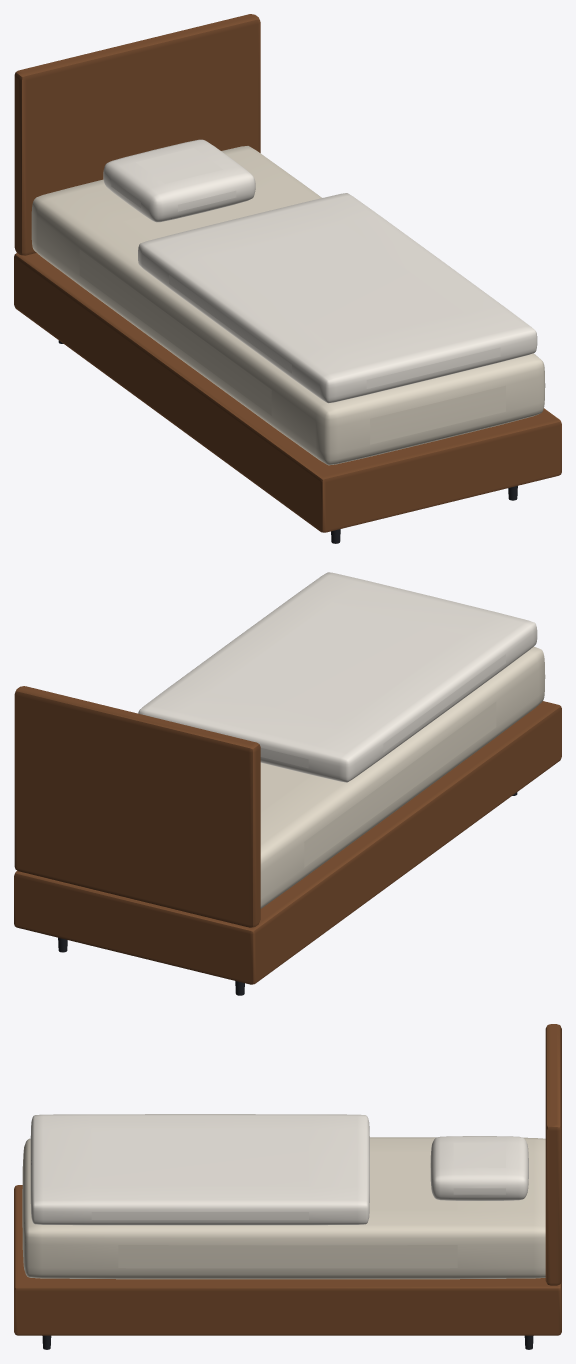
Rendered from bed-90.glb.
The picture shows the model from 3 angles, top to bottom: view 1: azimuth 30°, elevation 25°; view 2: azimuth 150°, elevation 25°; view 3: azimuth 270°, elevation 25°; orthographic projection. The views are drawn at different scales.
Visible parts, largest first — view 1: bed-90; view 2: bed-90; view 3: bed-90.
Boxes of the visible parts, x1=… form: bed-90: x1=14, y1=14, x2=561, y2=543; bed-90: x1=14, y1=572, x2=561, y2=995; bed-90: x1=14, y1=1024, x2=561, y2=1349.
Size of the model in its own units: 0.9 by 0.95 by 2.
